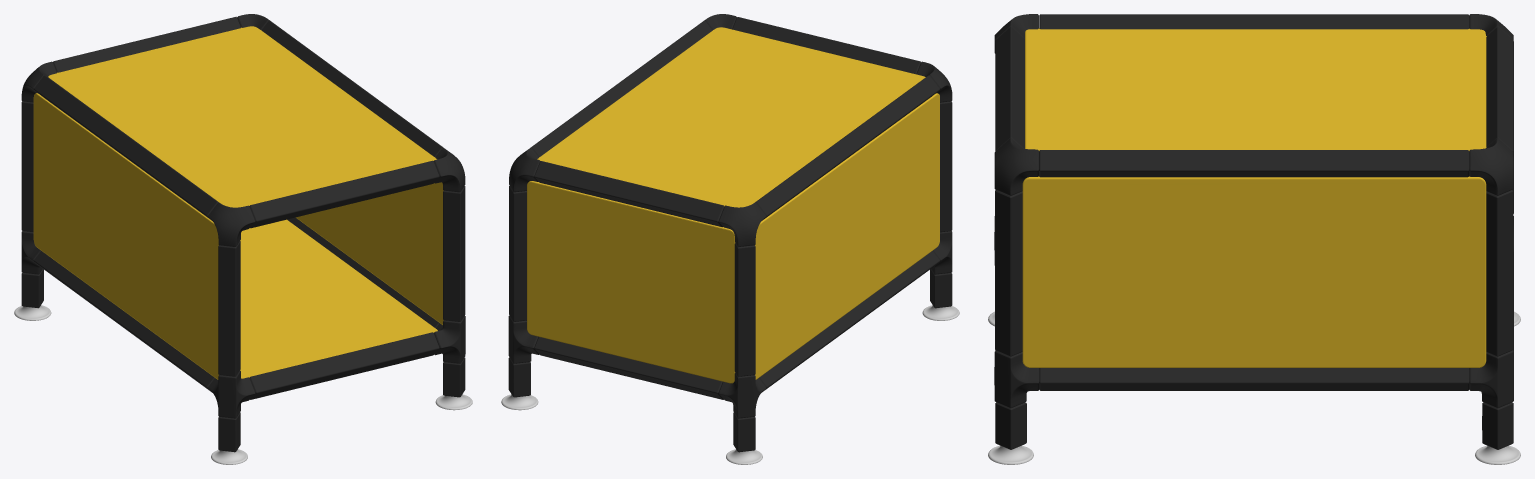
The picture shows the model from 3 angles, left to right: view 1: azimuth 30°, elevation 25°; view 2: azimuth 150°, elevation 25°; view 3: azimuth 270°, elevation 25°; orthographic projection. The views are drawn at different scales.
Parts seen in each view (by area): view 1: 229x374x154; view 2: 229x374x154; view 3: 229x374x154.
Boxes of the visible parts, x1,y1,x2,y2 form: 229x374x154: (14,14,472,464); 229x374x154: (501,14,959,464); 229x374x154: (988,14,1520,464).
Size of the model in its own units: 0.3189 by 0.2933 by 0.4632.
